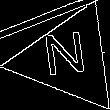N_S: (44, 31, 93, 86)
